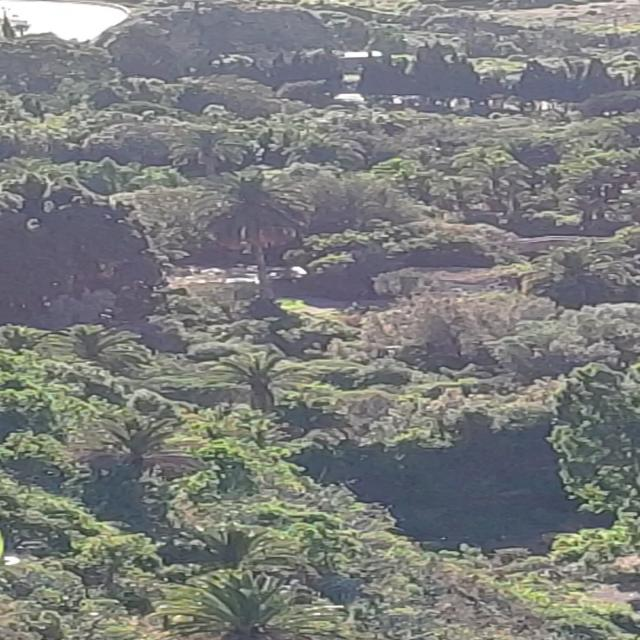Palm-Trees: (198, 169, 314, 304), (212, 355, 309, 413)
